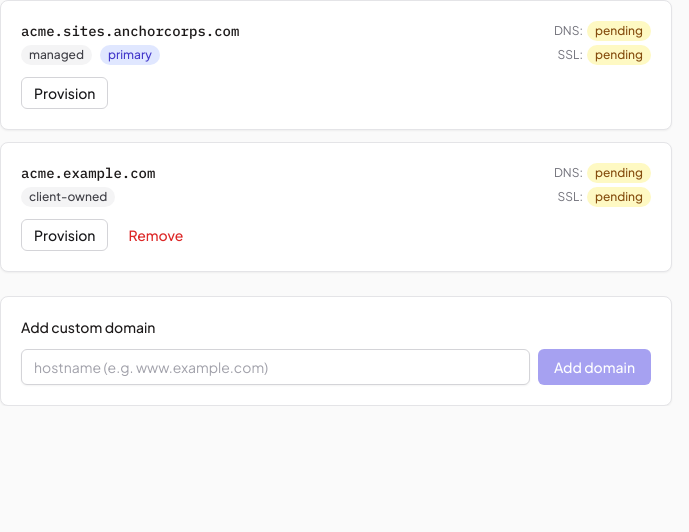
DomainsTab (P10-10.7) › shows required DNS records table after provision for client-owned domain
The width and height of the screenshot is (689, 532).
Expected: the text "acme.example.com" is shown, top-left (21, 163), bottom-right (155, 183)
// Two Provision buttons — click the first (primary managed domain).
Click the button "Provision" below "managed". click: (65, 93)
box: top-left (21, 77), bottom-right (108, 109)
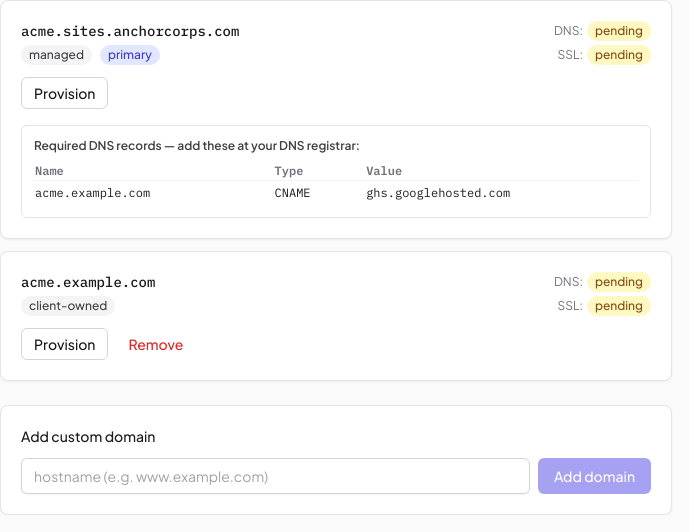
Expected: the text "ghs.googlehosted.com" is shown, top-left (365, 180), bottom-right (638, 205)
